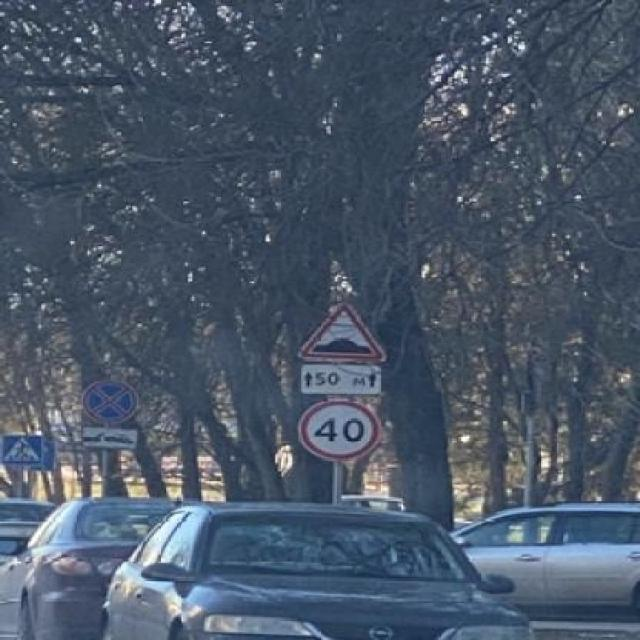forb_speed_over_40: (301, 396, 378, 461)
